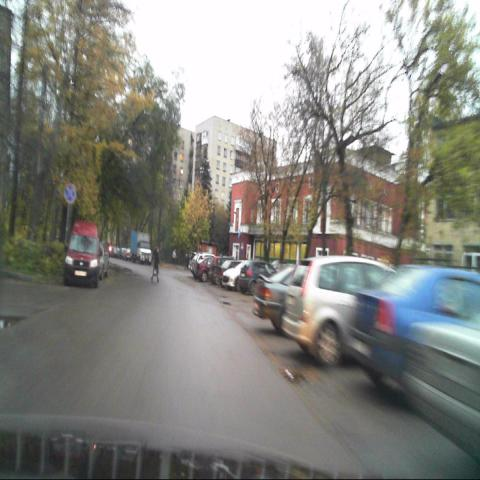3_27: (64, 182, 76, 204)
